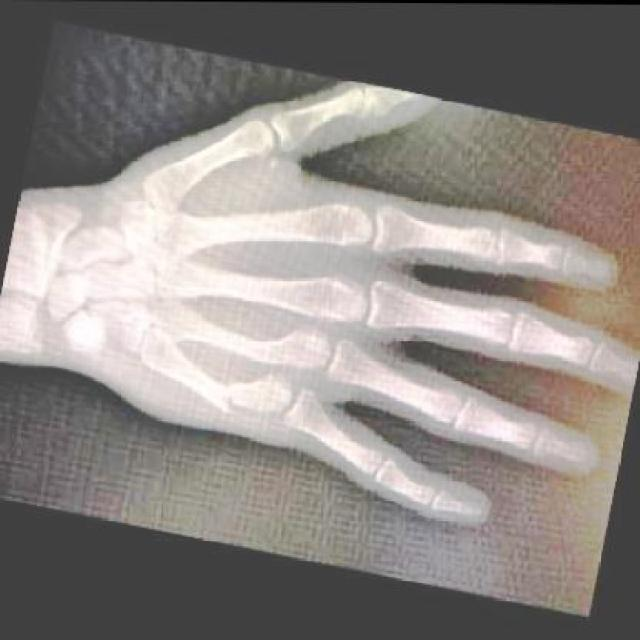Fracture: (192, 363, 263, 436)
